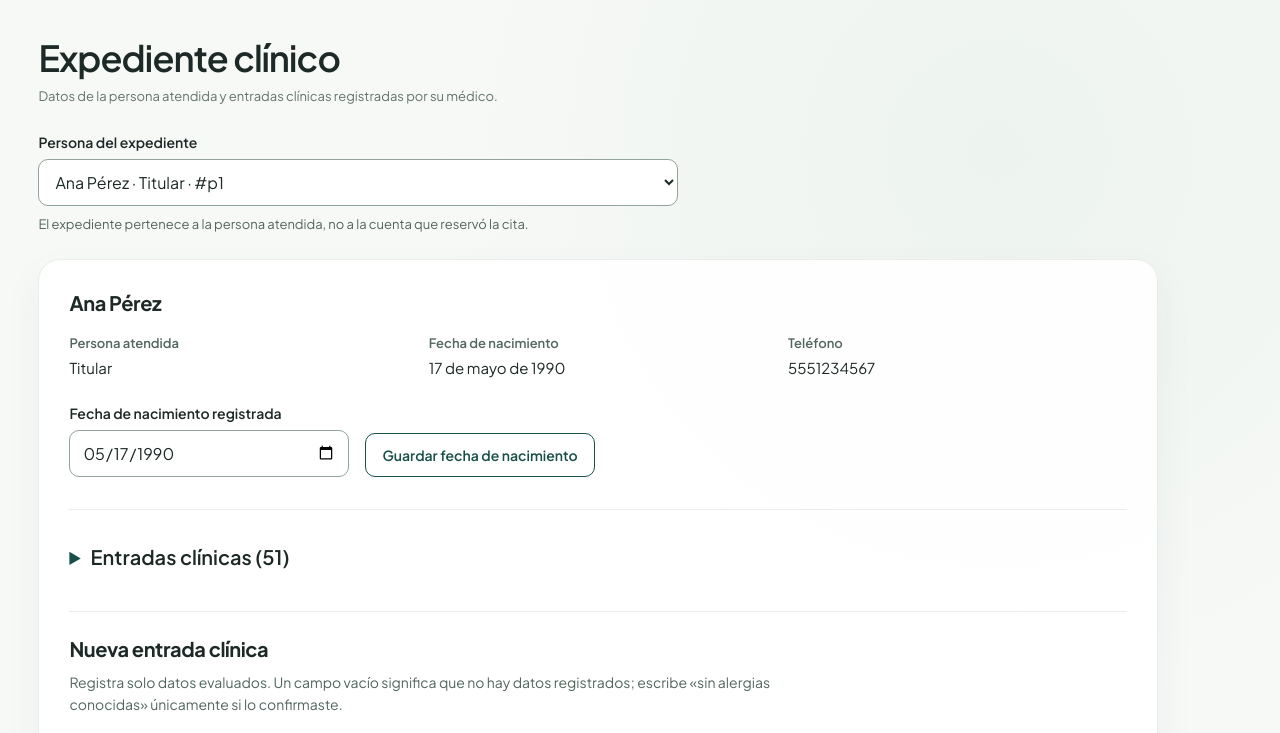
Test case: pagination errors retain the physician draft and existing notes without browser persistence
Click the heading "Entradas clínicas (51)" at coordinates (190, 556), box x1=91 y1=544 x2=290 y2=569
(page scrolled)
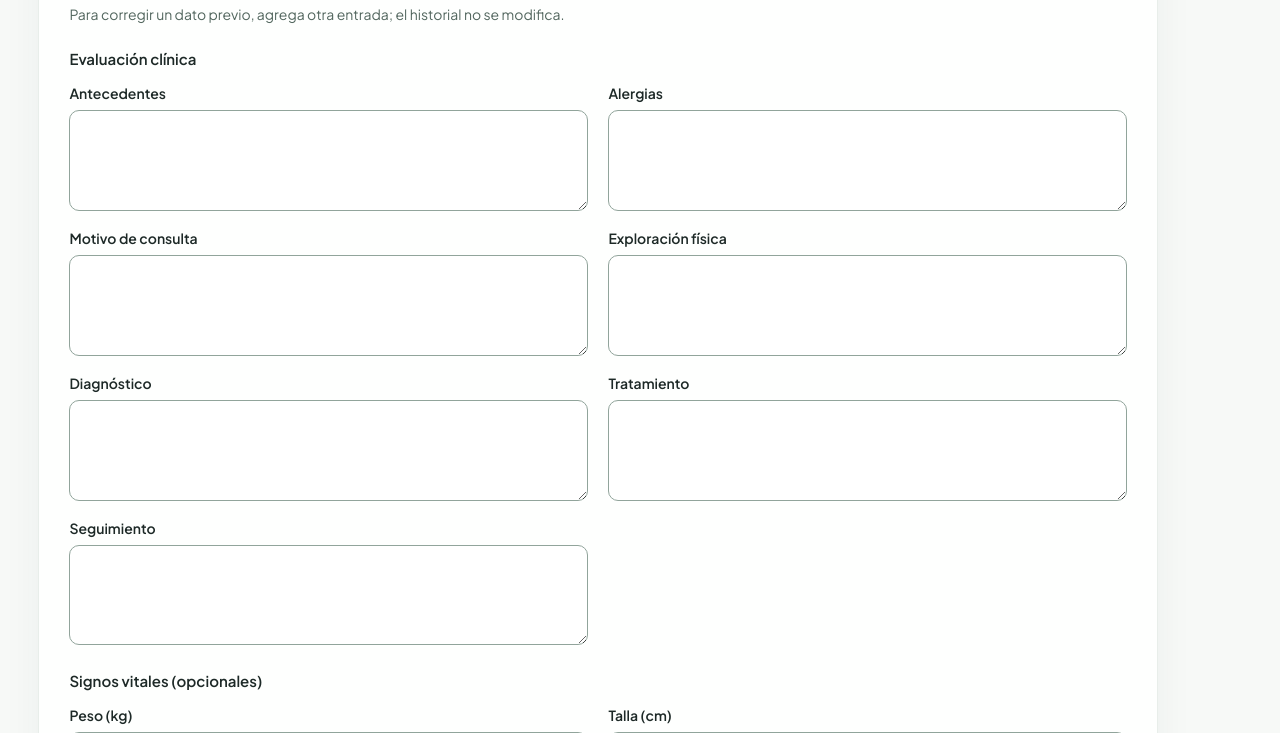
Type "Borrador privado" into the text box labelled "Diagnóstico" at coordinates (329, 450), box x1=69 y1=400 x2=588 y2=501
(page scrolled)
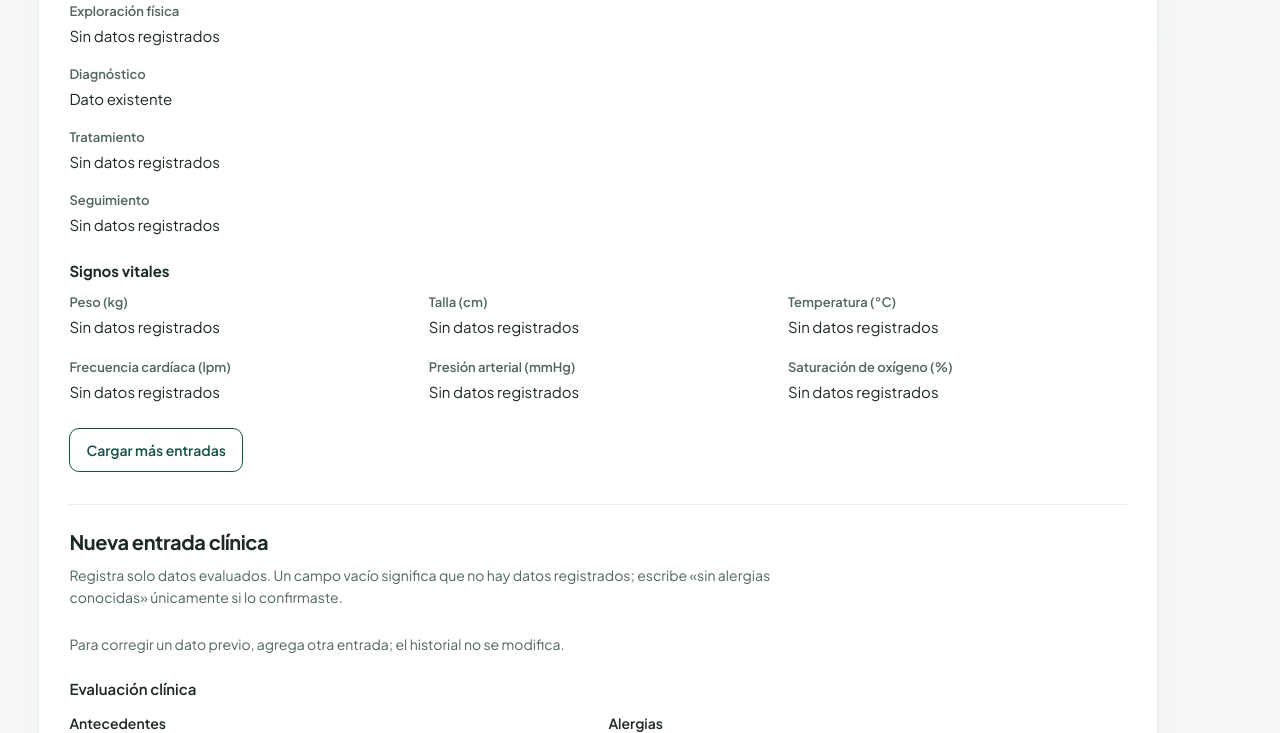
Click the button "Cargar más entradas" at coordinates (156, 450), box x1=69 y1=428 x2=243 y2=472
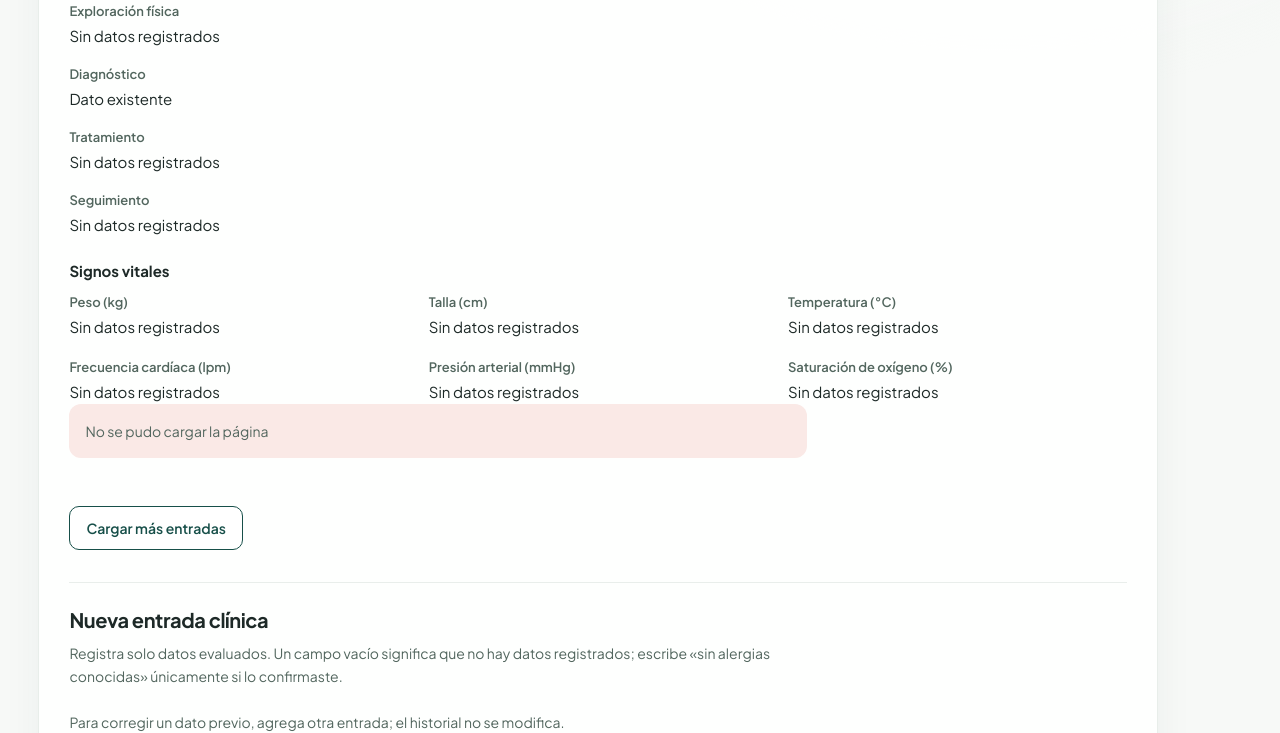
Expected: the text "Dato existente" is shown, x1=69 y1=89 x2=172 y2=108
Expected: the text "No se pudo cargar la página" is shown, x1=69 y1=404 x2=807 y2=458
